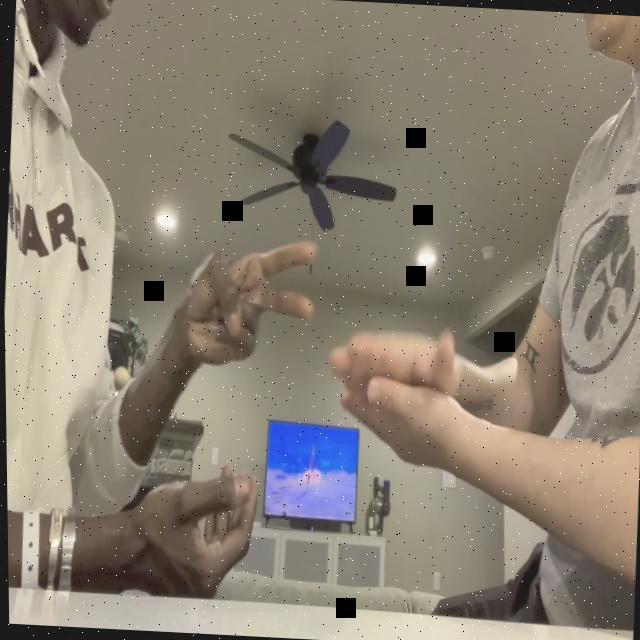Paper: (328, 328, 459, 397)
Scissors: (176, 232, 317, 372)
